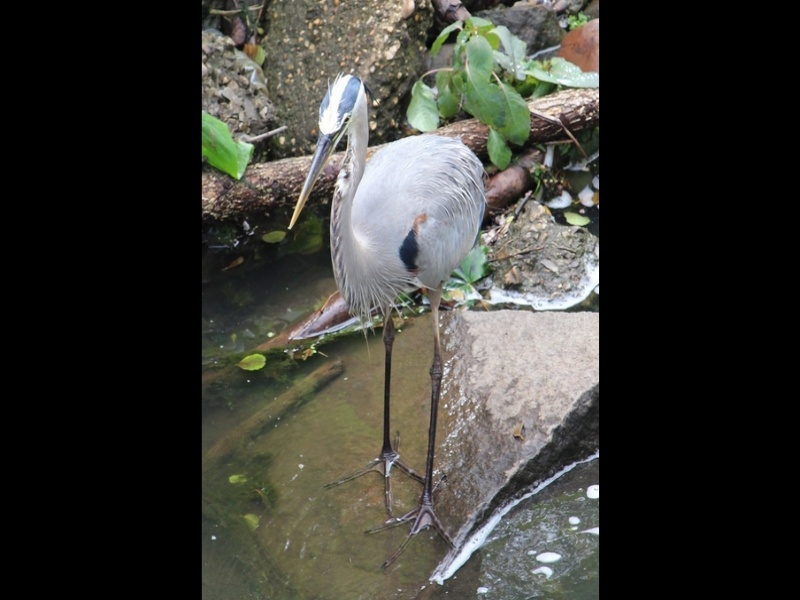heron: (285, 74, 488, 560)
